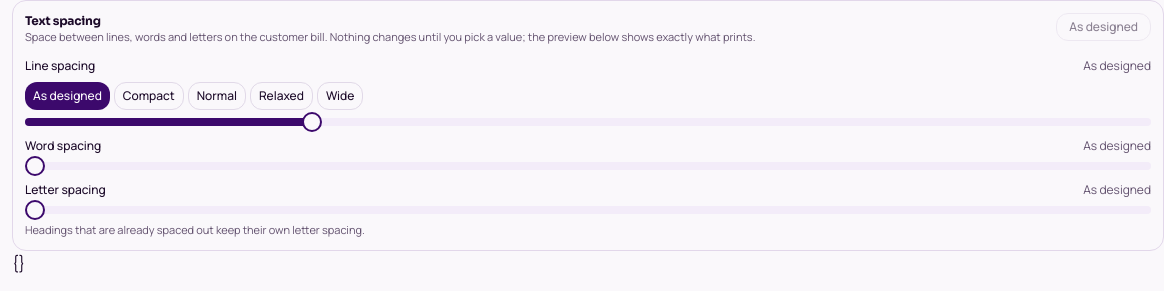
Test: the settings card › a preset sets the line spacing; "As designed" clears everything
Expected: the text with test id "line-value-bill" reads "As designed", 1083,56 -> 1151,74
What coordinates should you click on to do the following:
click the button "Relaxed"
I would click on:
 (281, 96)
Its box is 250,82 -> 313,110.
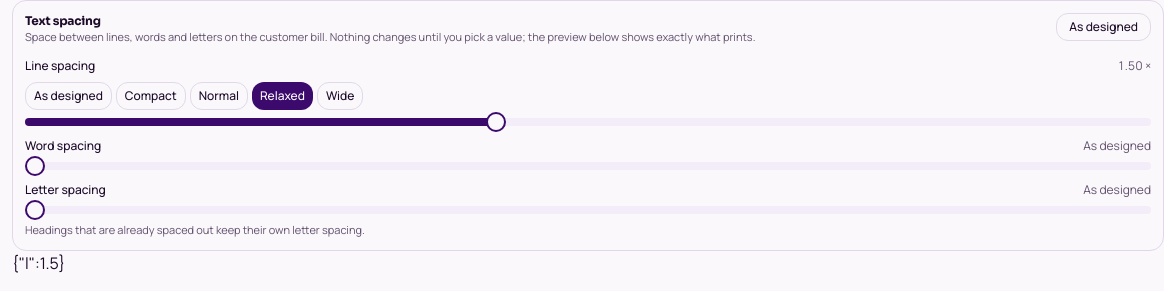
Result: the text with test id "line-value-bill" reads "1.50 ×" at 1117,56 -> 1151,74
Result: the text with test id "state" reads "{\"l\":1.5}" at 12,252 -> 65,274
What coordinates should you click on to do the following:
click the button "As designed" in the row of "customer bill"
I would click on:
 (1104, 27)
Its box is 1056,13 -> 1151,41.
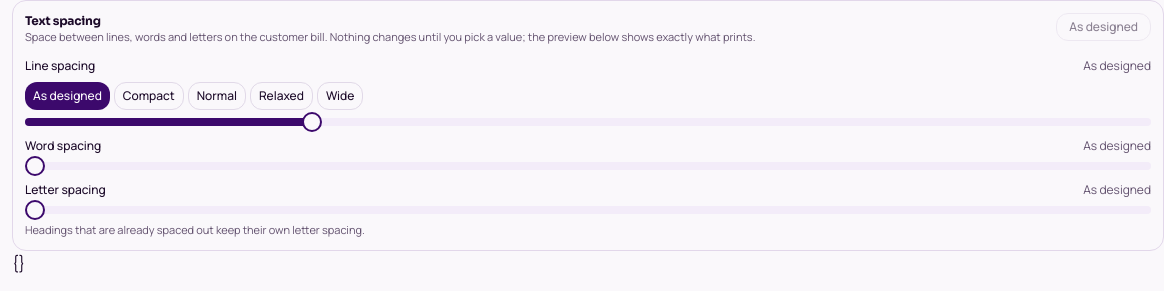
Result: the text with test id "state" reads "{}" at 12,252 -> 25,274
